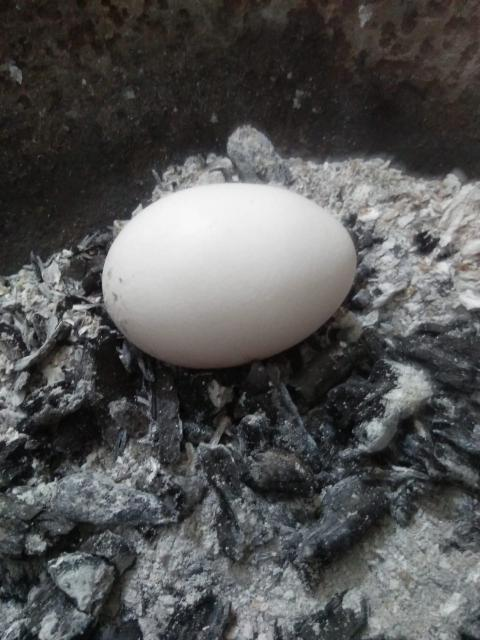Sano: (104, 182, 357, 371)
